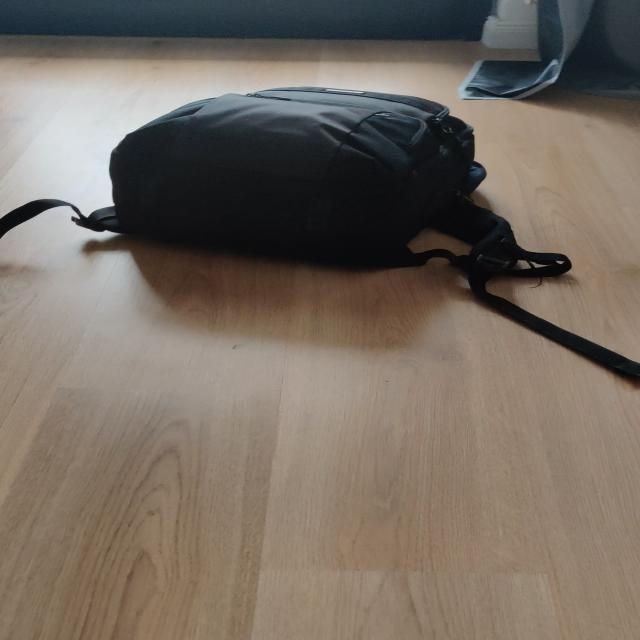backpack: (80, 79, 504, 273)
